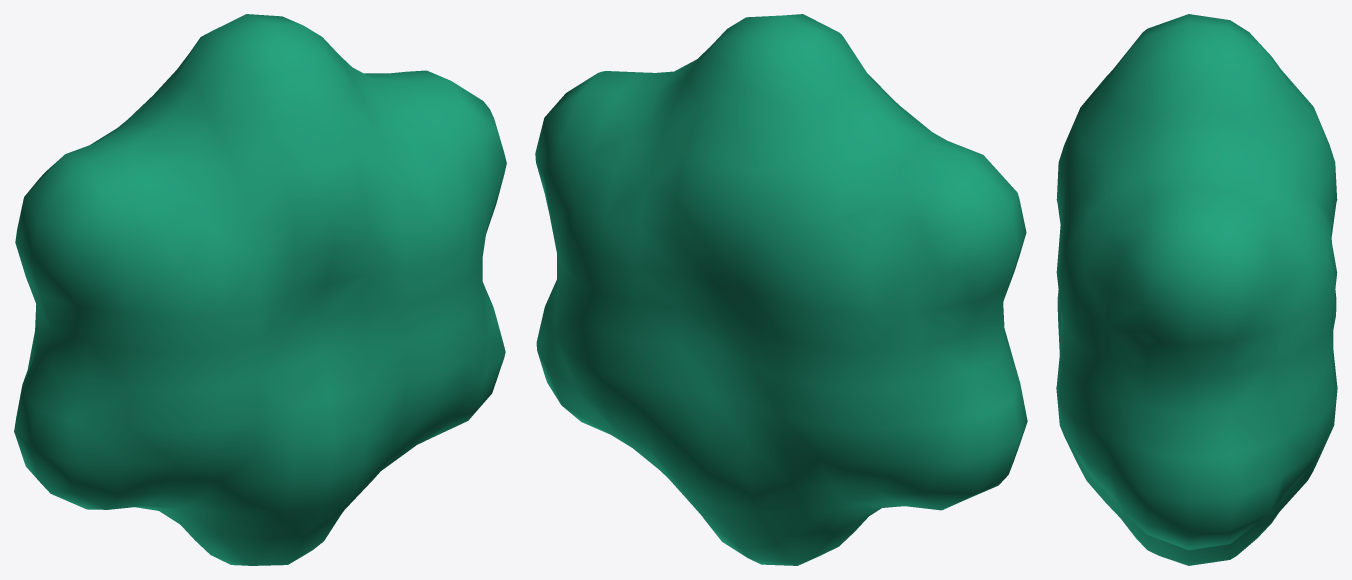
Rendered from molfig-benzene-surface.obj.
3 views of the same model, side by side, from view 1: azimuth 30°, elevation 25°; view 2: azimuth 150°, elevation 25°; view 3: azimuth 270°, elevation 25° (orthographic).
Size of the model in its own units: 6.5 by 7.15 by 3.39.
